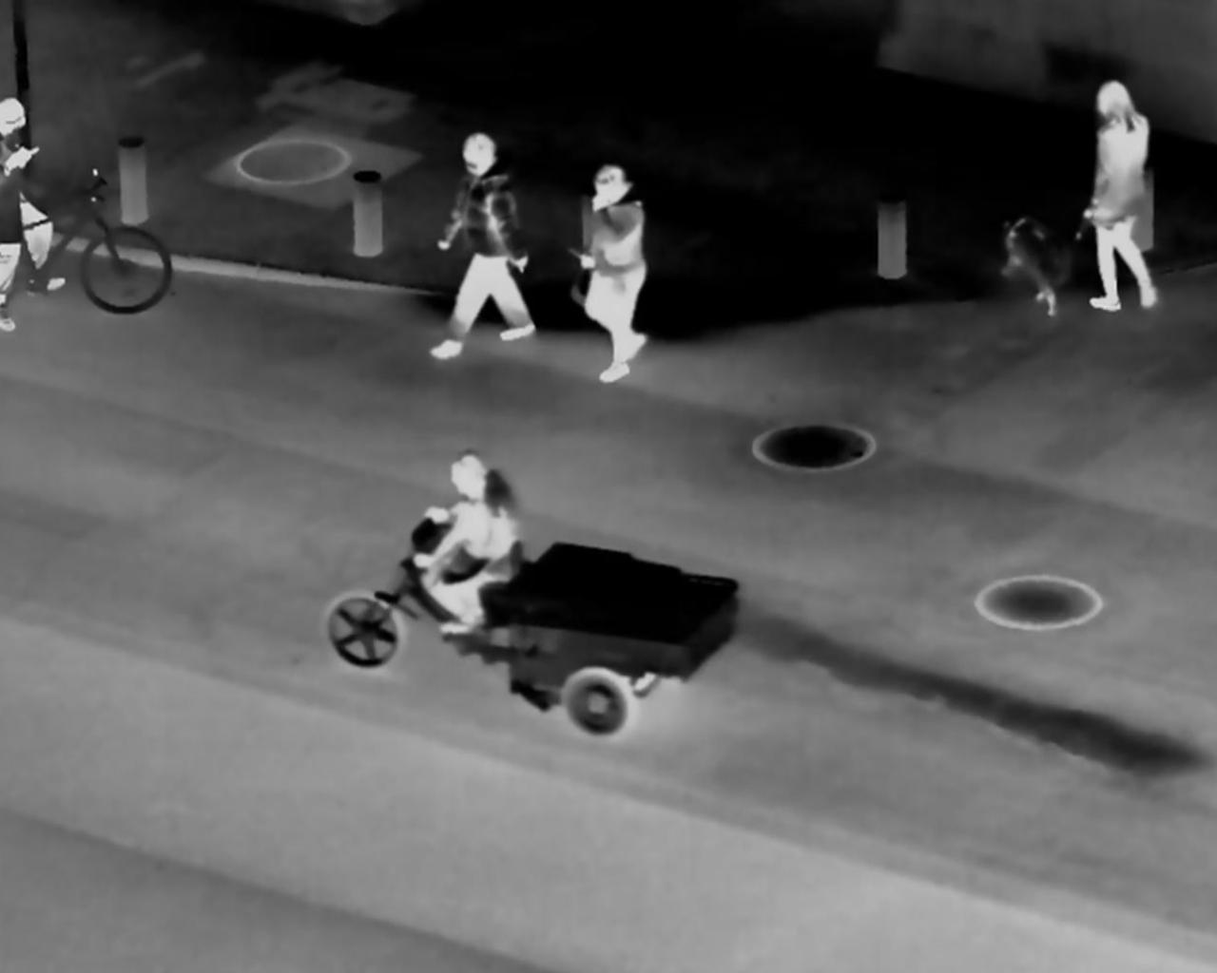person: (422, 126, 545, 358), (408, 445, 526, 627), (561, 156, 655, 381), (1083, 76, 1166, 316), (3, 96, 68, 333)
